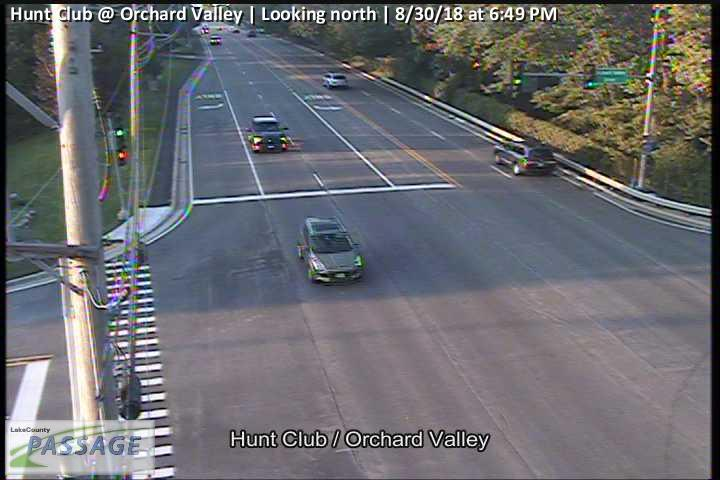Sedan: (297, 214, 364, 287), (492, 140, 558, 176), (243, 113, 290, 153), (320, 70, 350, 89)
